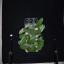leaf: (19, 34, 27, 44), (37, 24, 45, 34), (36, 18, 43, 28), (29, 44, 37, 52), (18, 27, 26, 34), (30, 29, 37, 36), (37, 43, 44, 50), (19, 44, 27, 50), (28, 24, 36, 30), (26, 46, 32, 52), (29, 39, 36, 44), (37, 39, 44, 44), (27, 34, 31, 40)
